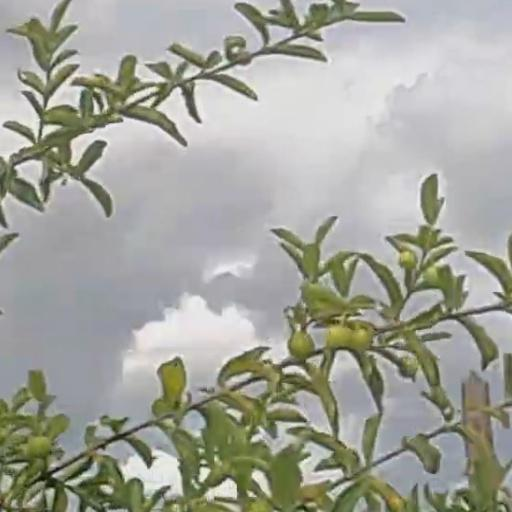acerola_verde: (327, 325, 365, 351), (291, 333, 315, 359)
